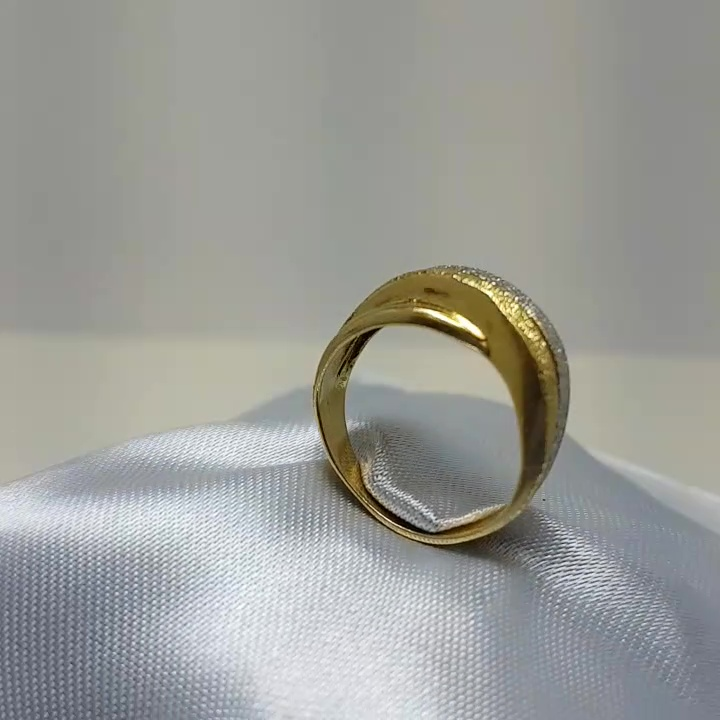Ring 5: (297, 235, 589, 578)
